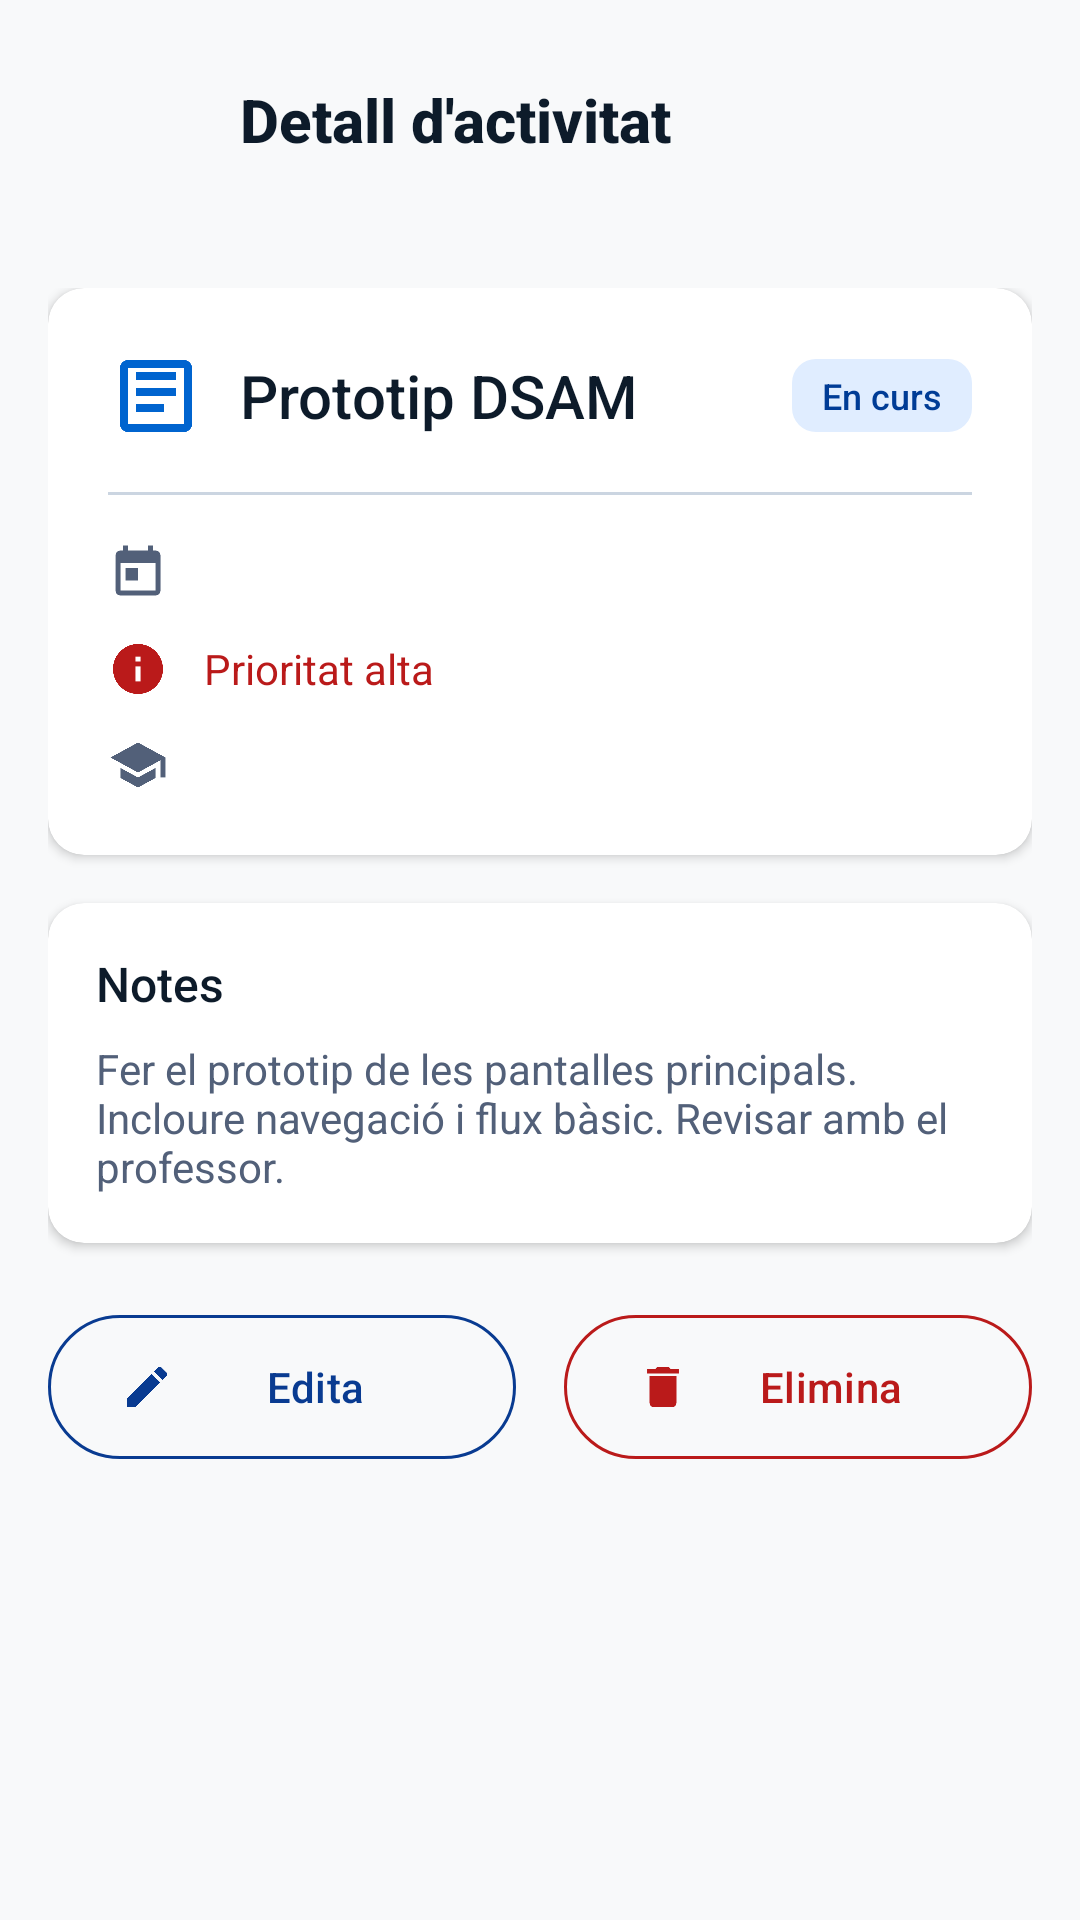

Screen size 1080*1920. Icon name, then its box in pixels as (x1, y1, x2, y2):
calendar: (115, 545, 161, 596)
module: (111, 743, 166, 787)
Treball: (120, 360, 192, 432)
